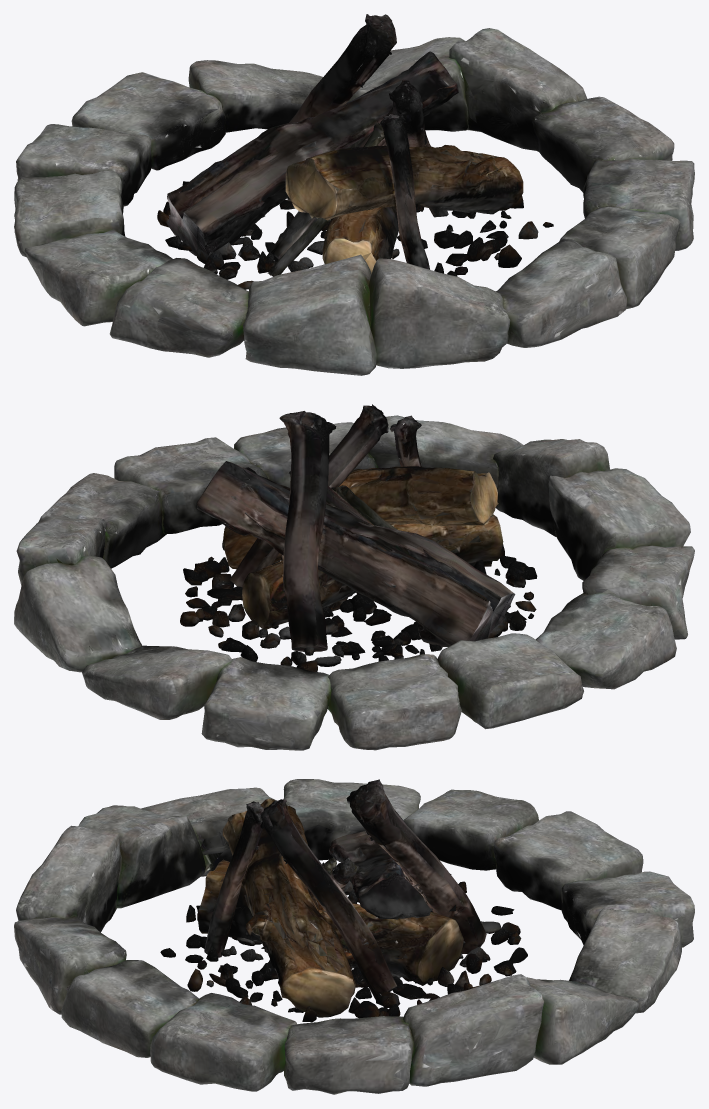
File: firepit.glb
The picture shows the model from 3 angles, top to bottom: view 1: azimuth 30°, elevation 25°; view 2: azimuth 150°, elevation 25°; view 3: azimuth 270°, elevation 25°; orthographic projection. The views are drawn at different scales.
Visible parts, largest first — view 1: ch1.firepit.001; view 2: ch1.firepit.001; view 3: ch1.firepit.001.
Boxes of the visible parts, x1,y1,x2,y2 form: ch1.firepit.001: (14, 14, 694, 375); ch1.firepit.001: (14, 404, 694, 750); ch1.firepit.001: (14, 779, 694, 1094).
Bounding box in the file's own units: 0.9432 × 0.3111 × 0.9691.
3 materials, 3 textured.
